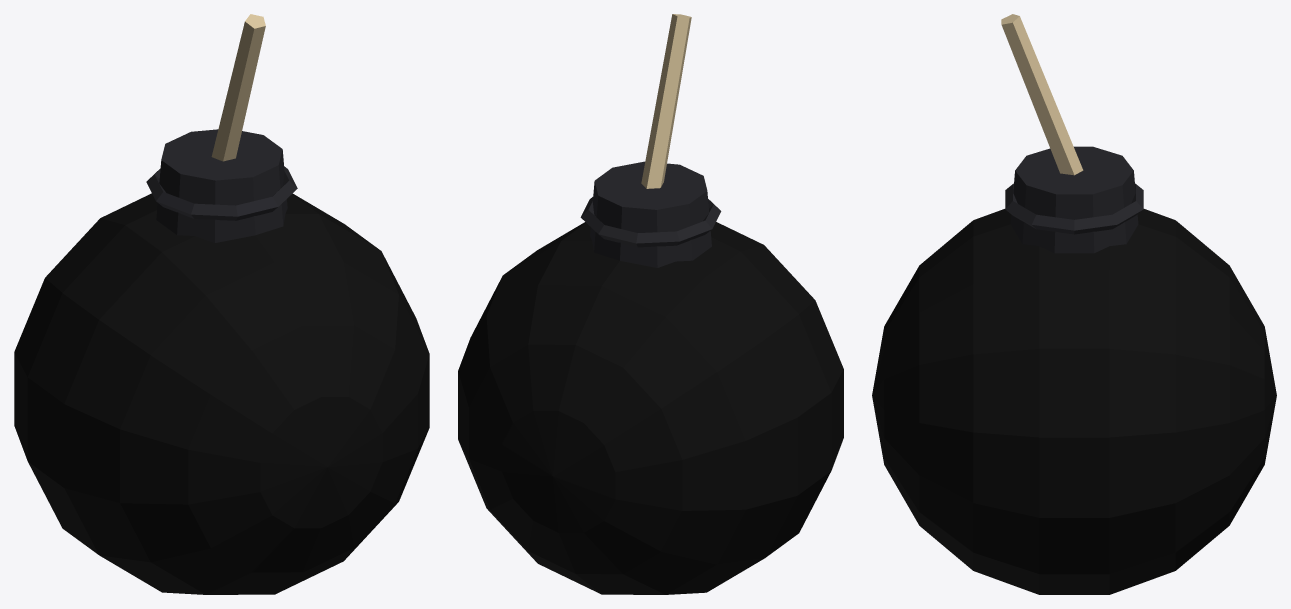
File: bomb.glb
3 renders of one model, left to right at view 1: azimuth 30°, elevation 25°; view 2: azimuth 150°, elevation 25°; view 3: azimuth 270°, elevation 25°, orthographic. The views are drawn at different scales.
Visible parts, largest first — view 1: bomb; view 2: bomb; view 3: bomb.
Part boxes in pixels (box(x1,y1,x2,y2)): bomb: box(14, 14, 429, 594); bomb: box(458, 14, 843, 594); bomb: box(872, 14, 1276, 594).
Size of the model in its own units: 0.144 by 0.229 by 0.15.
